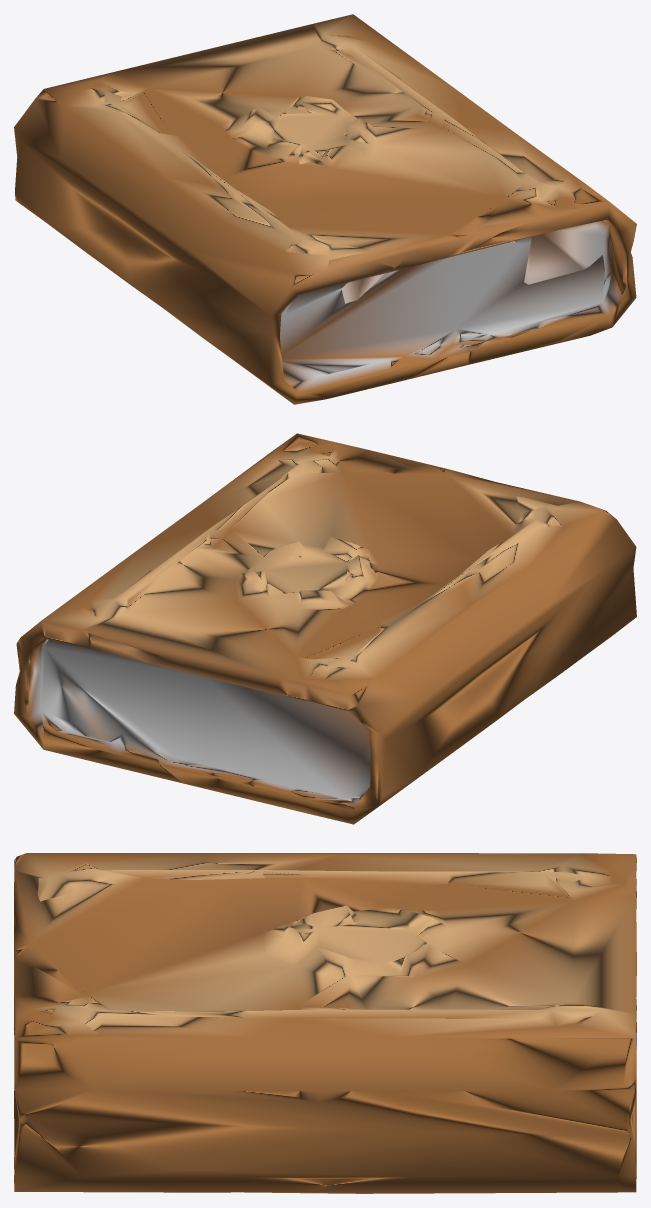
File: gen3d-spellbook-lod1.glb
3 views of the same model, one above another, from view 1: azimuth 30°, elevation 25°; view 2: azimuth 150°, elevation 25°; view 3: azimuth 270°, elevation 25° (orthographic). The views are drawn at different scales.
Visible parts, largest first — view 1: part_0; view 2: part_0; view 3: part_0.
Part boxes in pixels (<box>): part_0: <box>14,14,636,404</box>; part_0: <box>14,433,636,824</box>; part_0: <box>14,853,636,1193</box>.
Size of the model in its own units: 2.51 by 0.9985 by 3.03.
